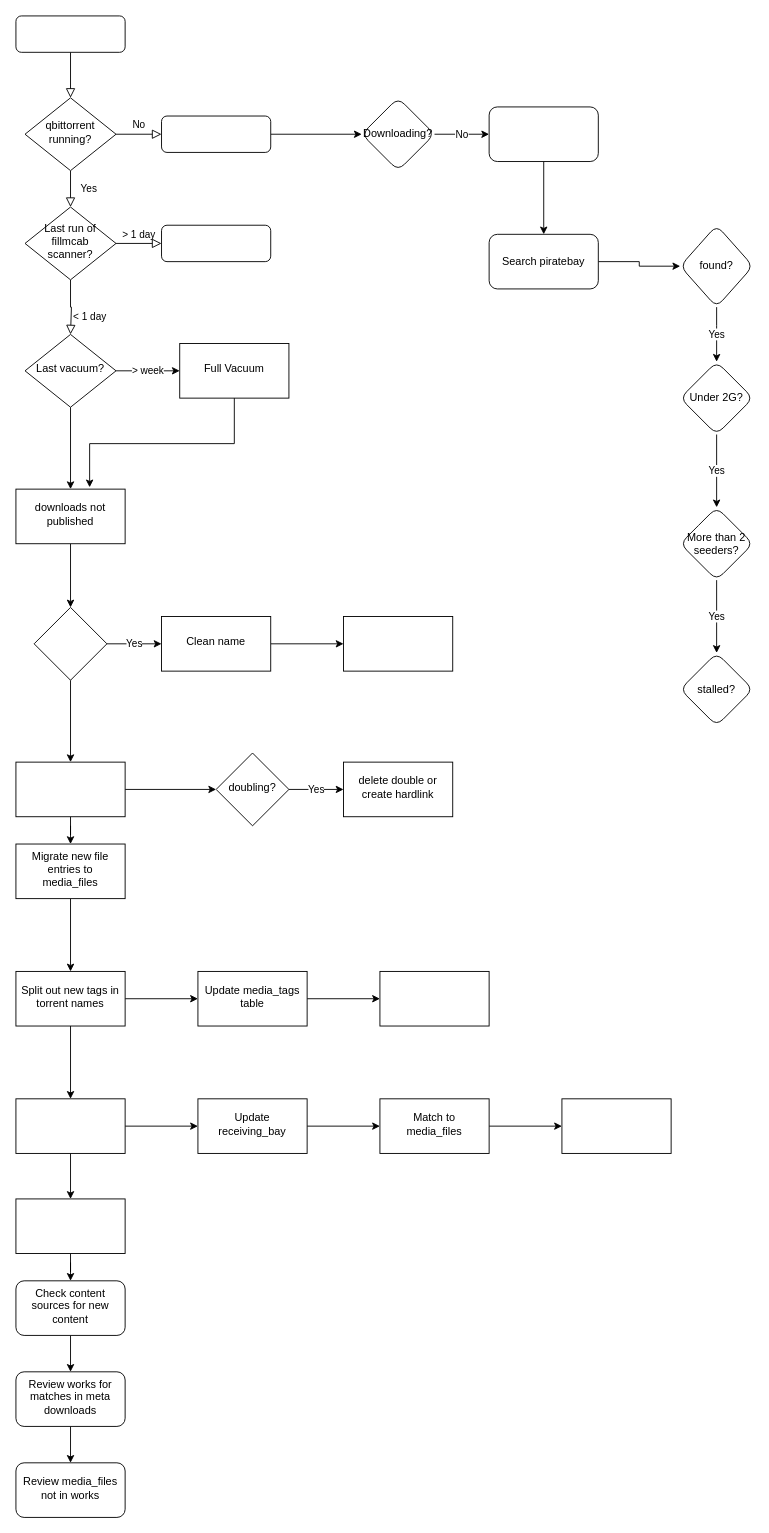
The diagram is 769 pixels wide and 1533 high, and some of its shapes have lost their labels. Here are the shapes that lost their labels. From the top down, the centre of each, then its label:
the point at 70,33: Get statuses
the point at 216,133: Start
the point at 543,134: Check list of wanted files
the point at 216,243: Run scanner
the point at 70,643: Want to publish?
the point at 398,643: Publish
the point at 70,789: Doubling in folders by hash
the point at 434,998: Update common groups of tags counts
the point at 70,1125: Check excel file date for new data
the point at 616,1125: Update excel with matches as "have" = true
the point at 70,1226: robocopy to backup drive
